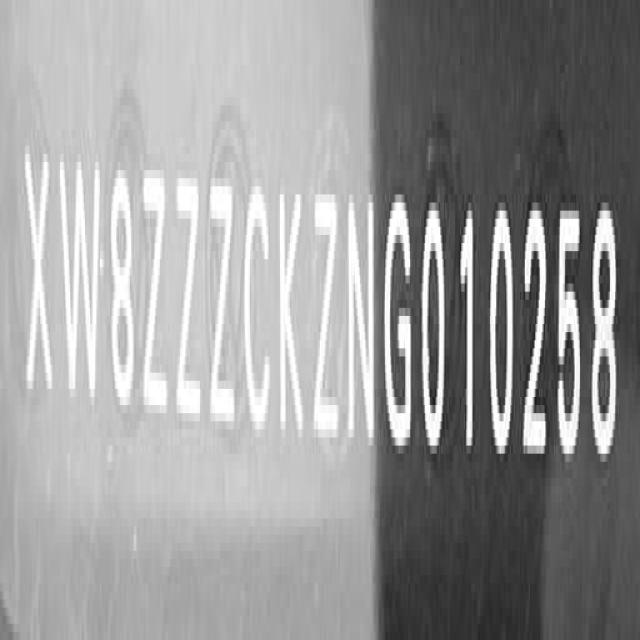0: (486, 186, 513, 456), (421, 192, 448, 444)
1: (454, 189, 476, 447)
2: (522, 192, 547, 462)
5: (556, 189, 582, 456)
8: (588, 204, 618, 468), (107, 165, 137, 420)
C: (243, 180, 272, 441)
G: (384, 195, 415, 456)
K: (276, 183, 306, 447)
N: (344, 186, 377, 462)
W: (57, 138, 105, 414)
X: (22, 120, 54, 402)
Z: (204, 165, 240, 441), (138, 156, 170, 432), (174, 159, 202, 435), (310, 186, 339, 441)
